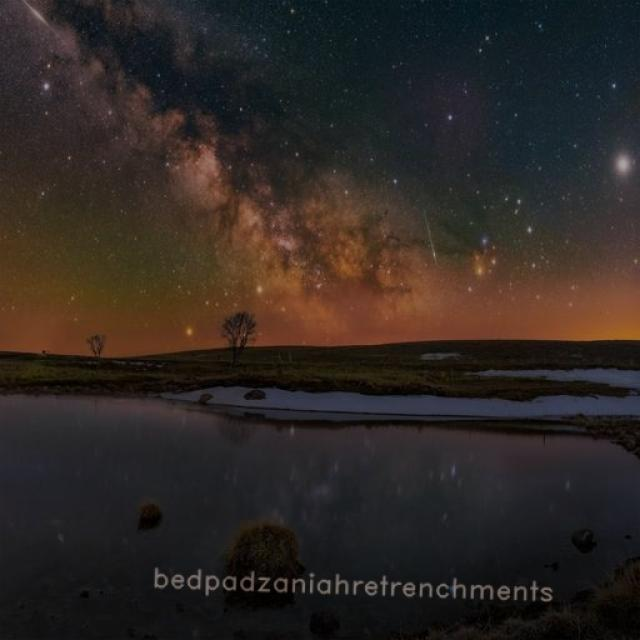watermark: (144, 565, 574, 605)
